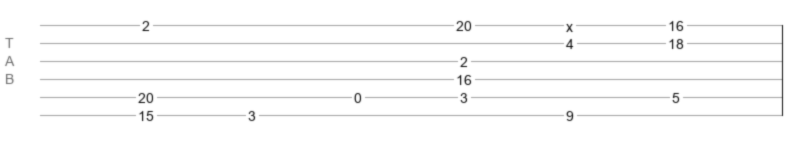0: (354, 90, 362, 100)
15: (138, 108, 154, 118)
16: (456, 72, 472, 82), (668, 18, 684, 28)
18: (668, 36, 684, 46)
2: (142, 18, 150, 28), (460, 54, 468, 64)
20: (138, 90, 154, 100), (456, 18, 472, 28)
3: (248, 108, 256, 118), (460, 90, 468, 100)
4: (566, 36, 574, 46)
5: (672, 90, 680, 100)
9: (566, 108, 574, 118)
x: (566, 19, 573, 27)
